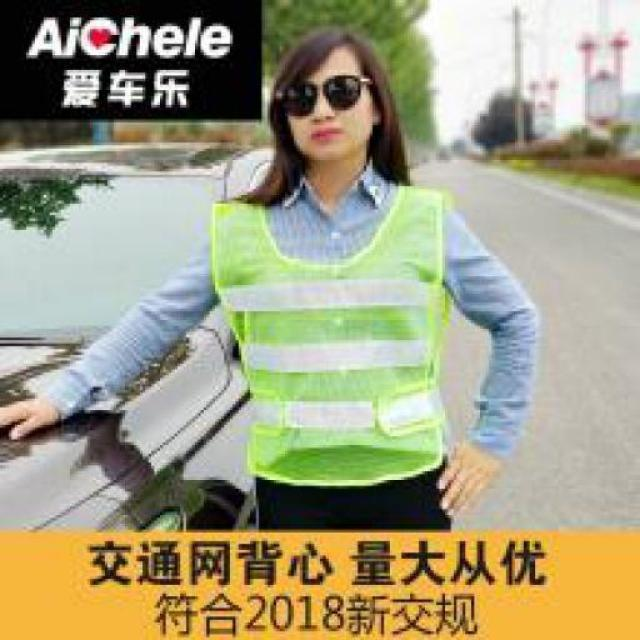vest: (212, 180, 468, 486)
